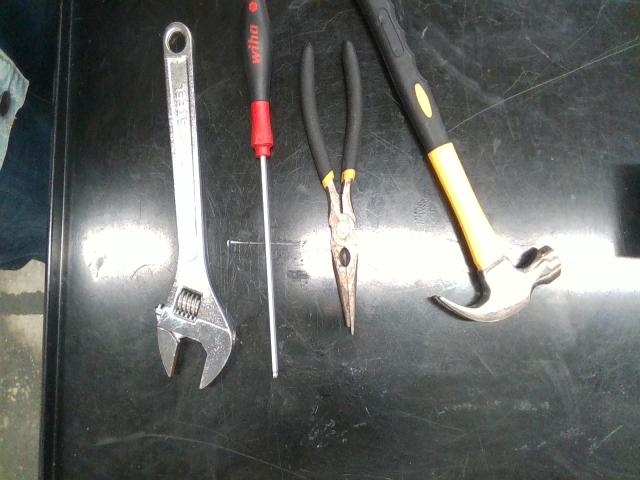Adjustable spanner: (155, 22, 235, 388)
Hammer: (359, 0, 561, 321)
Needle-nose pliers: (300, 42, 362, 334)
Screwdriver: (242, 0, 278, 378)
